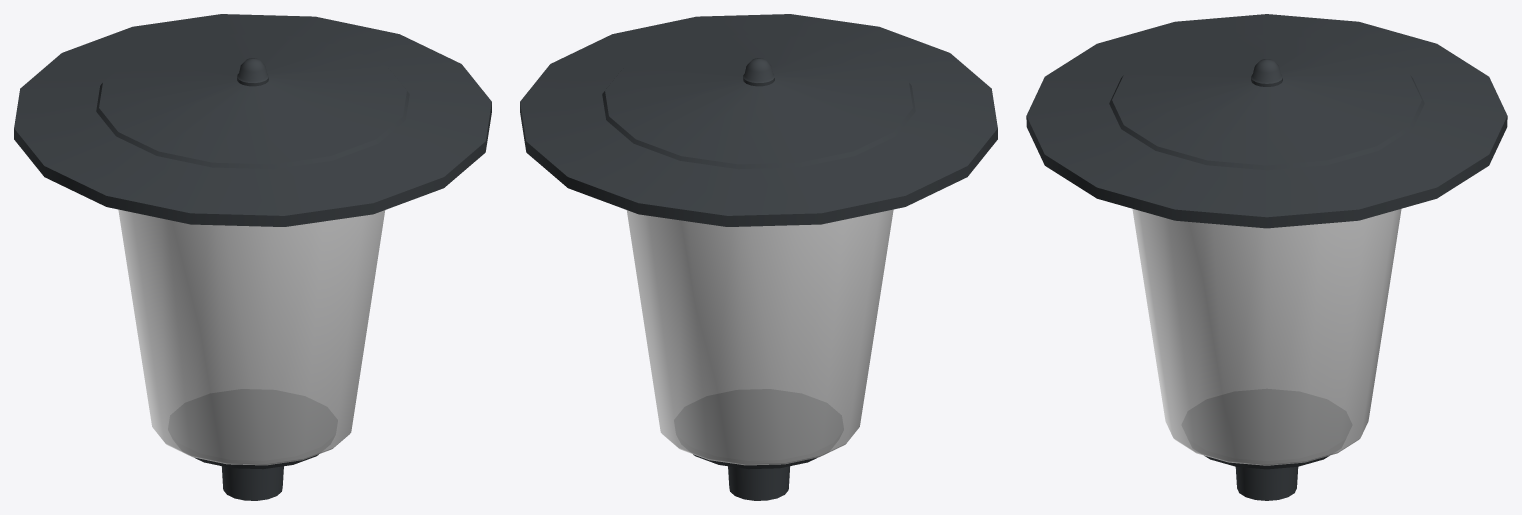
Rendered from EVA_I.glb.
The picture shows the model from 3 angles, left to right: view 1: azimuth 30°, elevation 25°; view 2: azimuth 150°, elevation 25°; view 3: azimuth 270°, elevation 25°; orthographic projection.
Parts seen in each view (by area): view 1: BezierCurve.001, Glas; view 2: BezierCurve.001, Glas; view 3: BezierCurve.001, Glas.
Part boxes in pixels (bbox=[...]): BezierCurve.001: bbox=[14, 14, 491, 500]; Glas: bbox=[118, 209, 385, 465]; BezierCurve.001: bbox=[520, 14, 997, 500]; Glas: bbox=[626, 209, 893, 465]; BezierCurve.001: bbox=[1026, 14, 1507, 500]; Glas: bbox=[1132, 208, 1401, 465].
Size of the model in its own units: 0.5984 by 0.5878 by 0.5984.
Materials: 3 (3 with a texture image).
